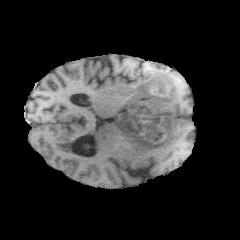glioma: (113, 70, 183, 152)
